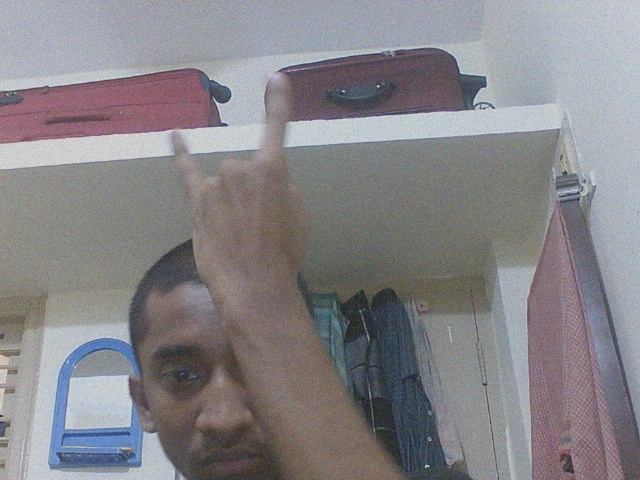hand: (168, 71, 318, 308)
